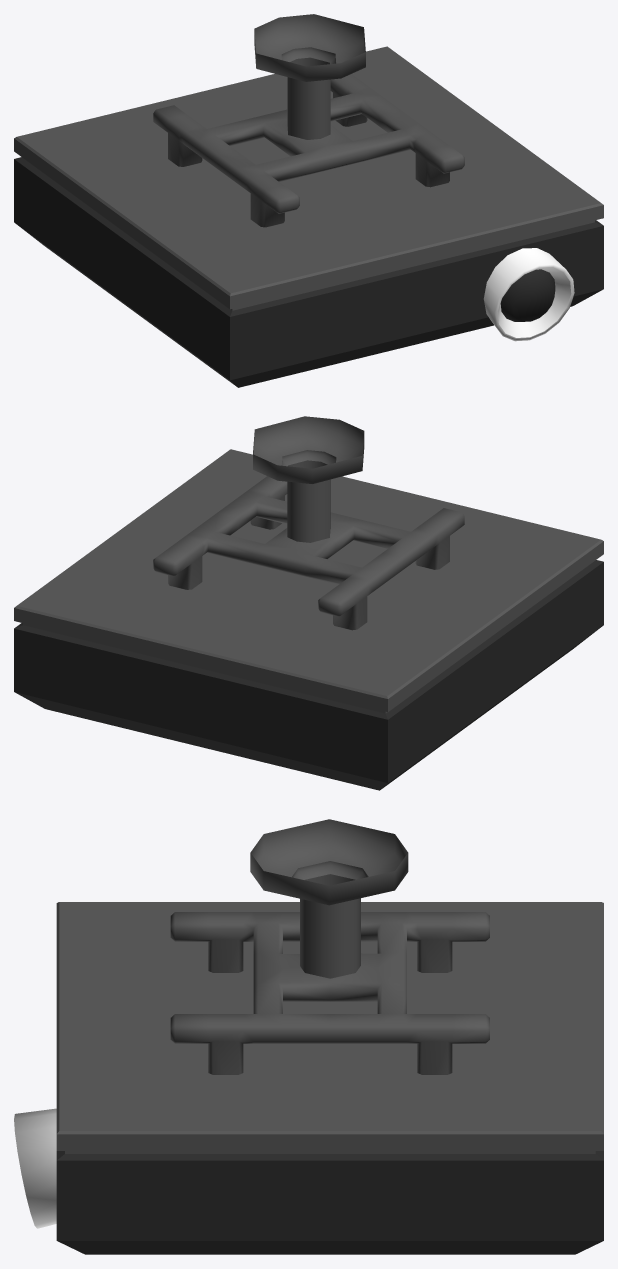
File: projector.fbx
3 views of the same model, one above another, from view 1: azimuth 30°, elevation 25°; view 2: azimuth 150°, elevation 25°; view 3: azimuth 270°, elevation 25° (orthographic). The views are drawn at different scales.
Parts seen in each view (by area): view 1: Cube.002; view 2: Cube.002; view 3: Cube.002.
Boxes of the visible parts, x1,y1,x2,y2 form: Cube.002: (14, 14, 603, 387); Cube.002: (14, 416, 603, 790); Cube.002: (14, 819, 603, 1254).
Bounding box in the file's own units: 200 × 123 × 216.
